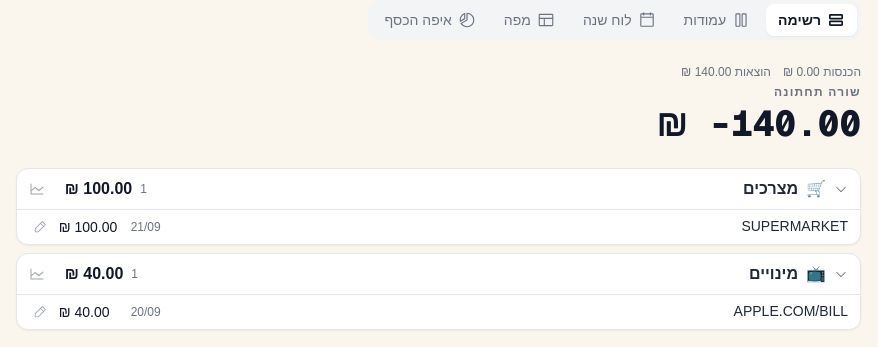
Test case: ExpensesExplorer editing › tapping a row still hides it from the total
Click the text "APPLE.COM/BILL" at x=791, y=311, box [734,303,848,319]
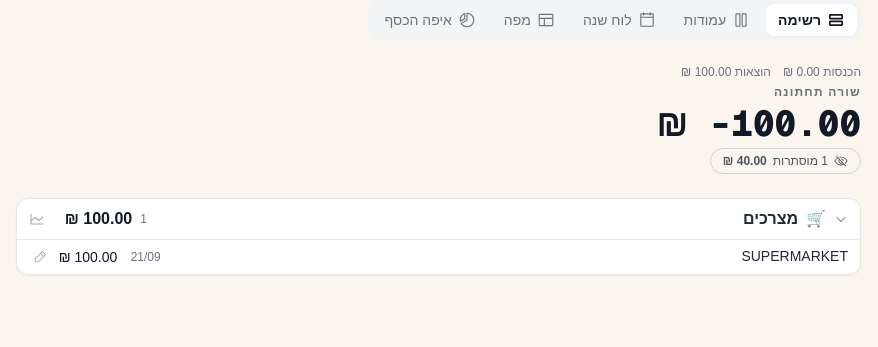
Expected: the text "APPLE.COM/BILL" is gone
